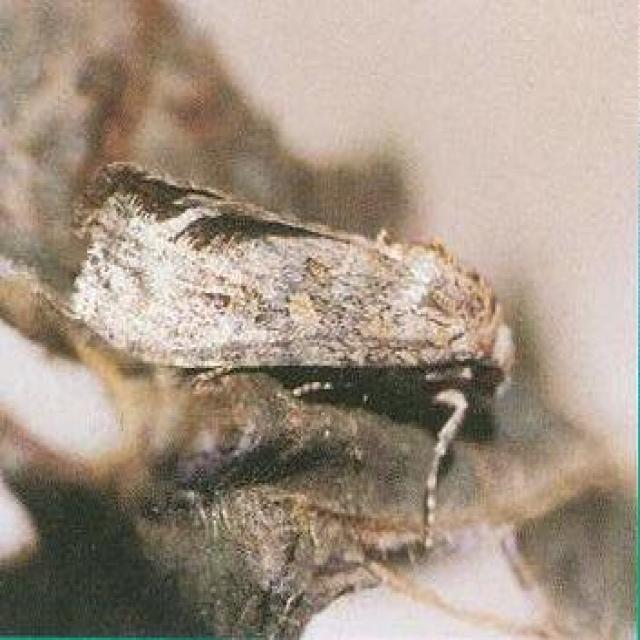BeetArmyWorm-Adult-: (58, 149, 530, 409)
